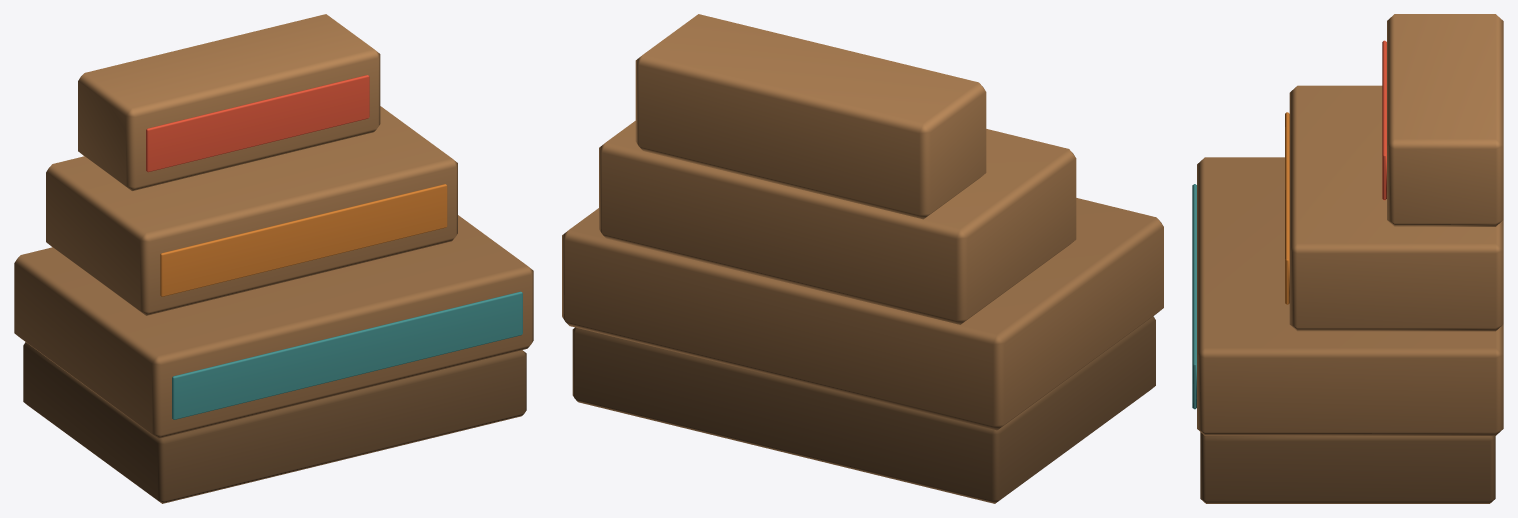
The model's file is Table_Promo_Tiered_01.glb.
3 renders of one model, left to right at view 1: azimuth 30°, elevation 25°; view 2: azimuth 150°, elevation 25°; view 3: azimuth 270°, elevation 25°, orthographic. The views are drawn at different scales.
Visible parts, largest first — view 1: SM_Table_Promo_Tiered_01; view 2: SM_Table_Promo_Tiered_01; view 3: SM_Table_Promo_Tiered_01.
Boxes of the visible parts, bbox=[...] form: SM_Table_Promo_Tiered_01: bbox=[14, 14, 533, 503]; SM_Table_Promo_Tiered_01: bbox=[562, 14, 1163, 503]; SM_Table_Promo_Tiered_01: bbox=[1192, 14, 1503, 503].
Bounding box in the file's own units: 1.2 × 0.95 × 0.8.
1 material, 1 textured.
